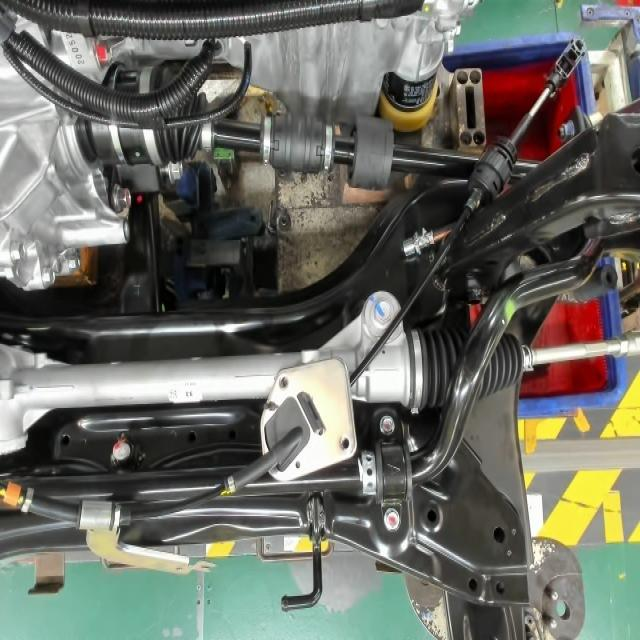Bar Stabilizer-HJ: (501, 296, 520, 328)
